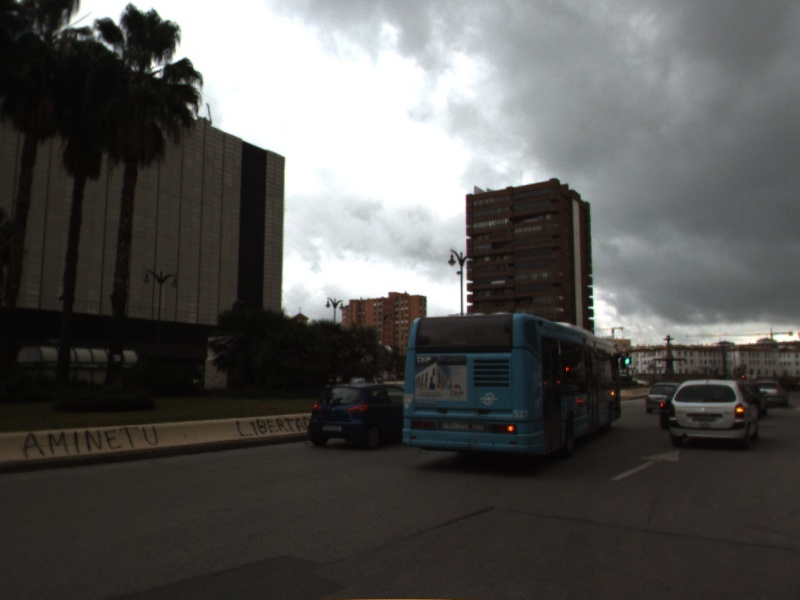STRAIGHT: (608, 449, 682, 483)
